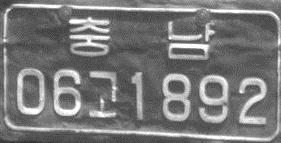0: (15, 67, 46, 116)
1: (124, 71, 153, 121)
2: (238, 76, 267, 125)
6: (52, 69, 81, 117)
8: (161, 73, 190, 122)
9: (197, 74, 229, 125)
고: (87, 69, 117, 118)
충남_D: (68, 16, 214, 60)
